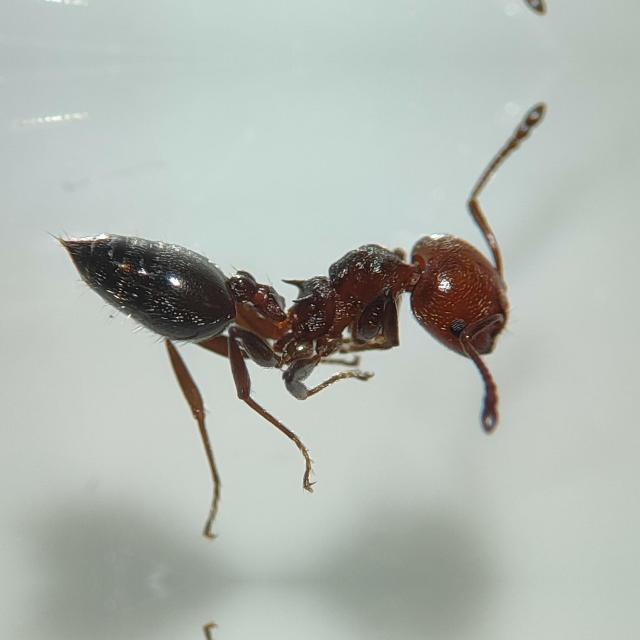Crematogaster: (22, 148, 528, 440)
